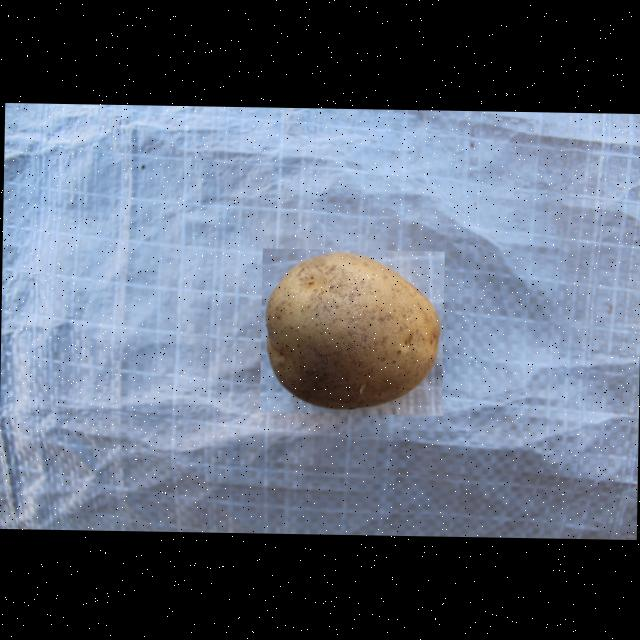Diseased-fungal potato: (258, 247, 444, 414)
